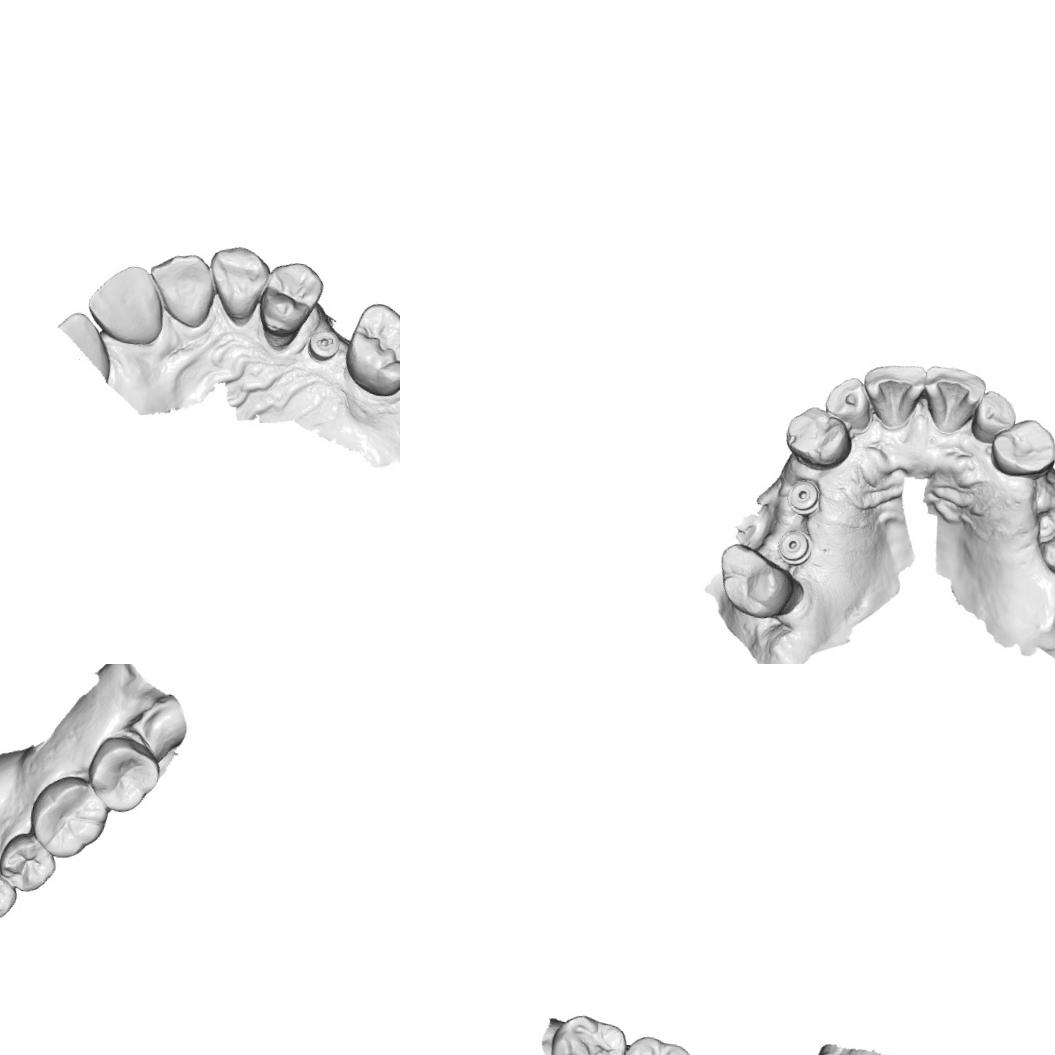canine: (199, 241, 274, 332)
implant: (772, 524, 816, 568), (783, 476, 826, 520)
implant_minus: (304, 326, 342, 364)
incisor: (81, 258, 170, 350), (142, 248, 221, 332), (856, 358, 928, 433), (918, 364, 988, 438), (820, 373, 880, 436), (968, 388, 1019, 447)
molar: (24, 770, 113, 863), (712, 541, 807, 625), (82, 732, 164, 818), (340, 298, 400, 401), (544, 1010, 631, 1055), (613, 1031, 699, 1055)
premolar: (254, 258, 327, 356), (780, 402, 857, 475), (986, 414, 1055, 483), (0, 829, 61, 896), (0, 865, 20, 923)
